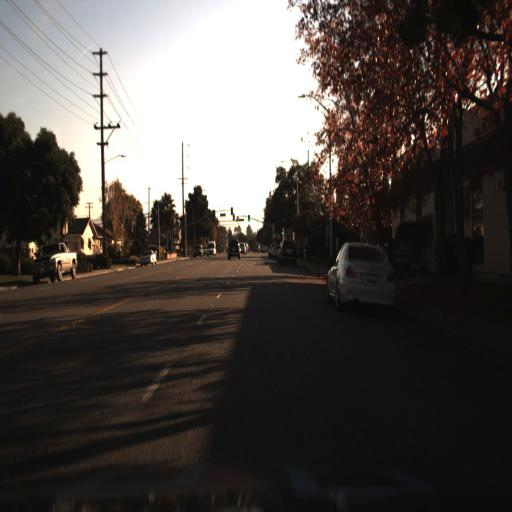car: (326, 236, 400, 310), (27, 239, 79, 279), (279, 235, 299, 265), (138, 245, 158, 274), (136, 247, 158, 268), (226, 238, 241, 263), (191, 237, 203, 260), (204, 239, 216, 259)
